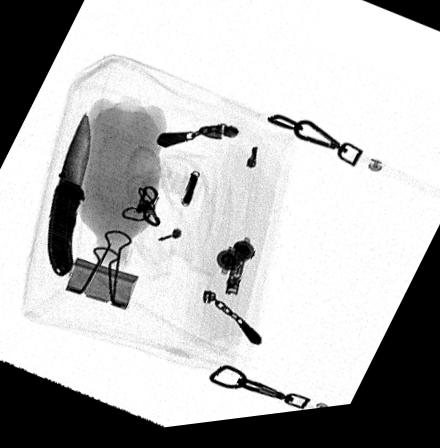Knife: (47, 112, 92, 279)
